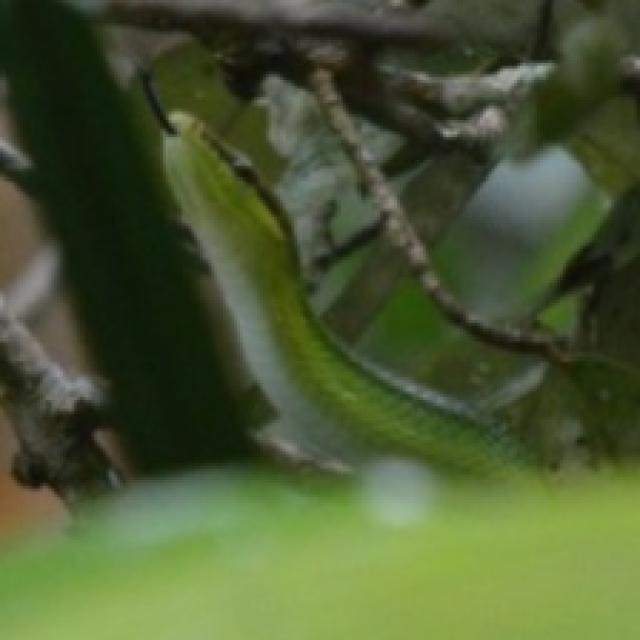red-tailed green ratsnake: (163, 111, 511, 471)
